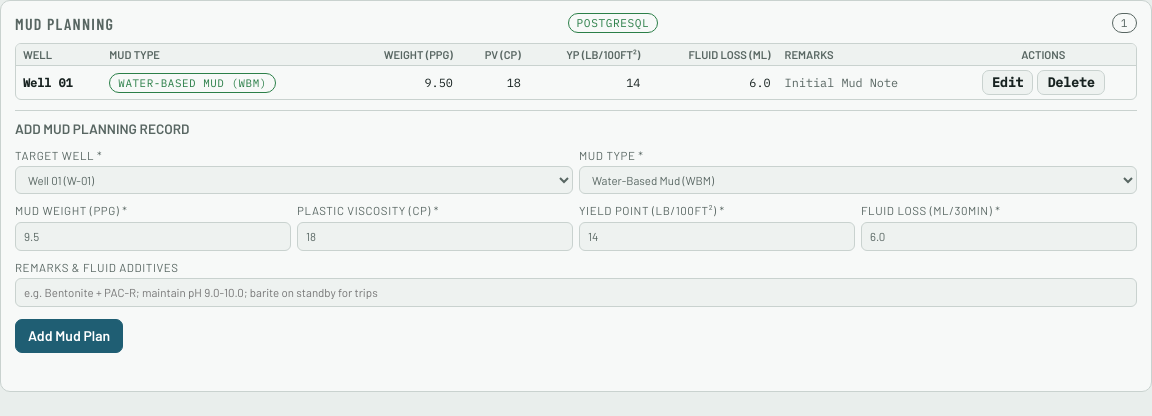
Test: <MudPlanningEditor> › edits an existing mud plan
Expected: the text "9.50" is shown, [347,66,460,99]
Click the button with aria-label "edit mud plan for Well 01".
click(1008, 82)  # box [982,70,1034,95]
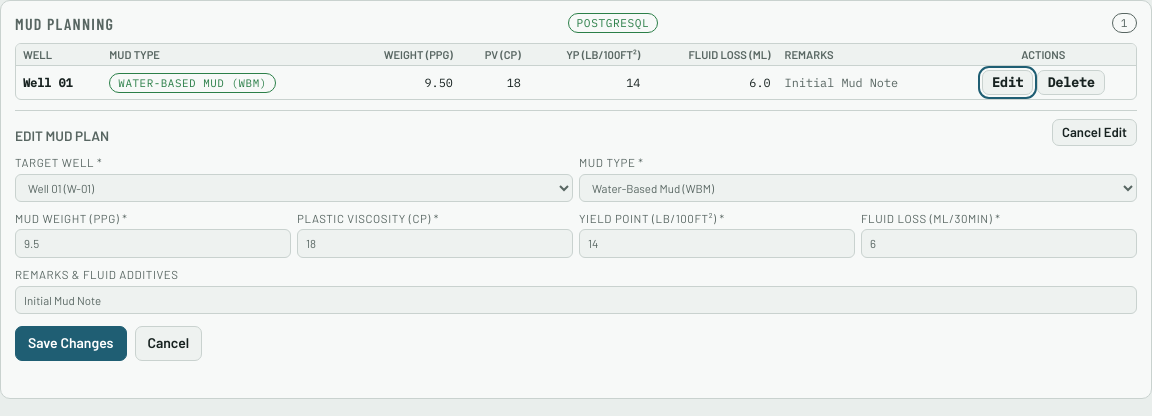
Replace the text in the number field named "mud weight in ppg" with "11.8" at (153,244), box [15,229,291,258]
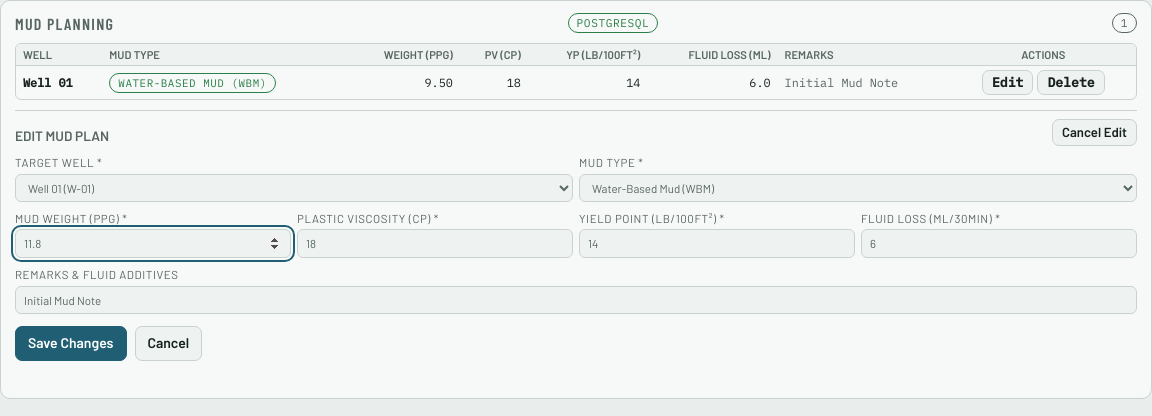
Click the button "Save Changes".
click(71, 344)  # box [15,326,126,361]
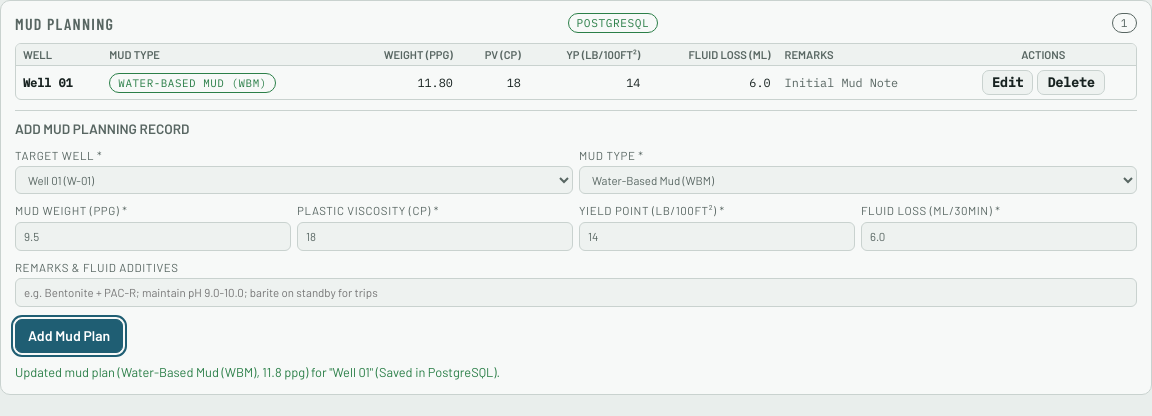
Expected: the text "11.80" is shown, [347,66,460,99]
